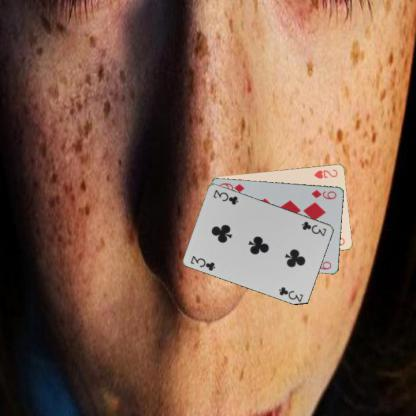2h: (312, 166, 339, 180)
3c: (299, 219, 328, 238), (188, 253, 217, 272)
9d: (309, 187, 338, 201)
